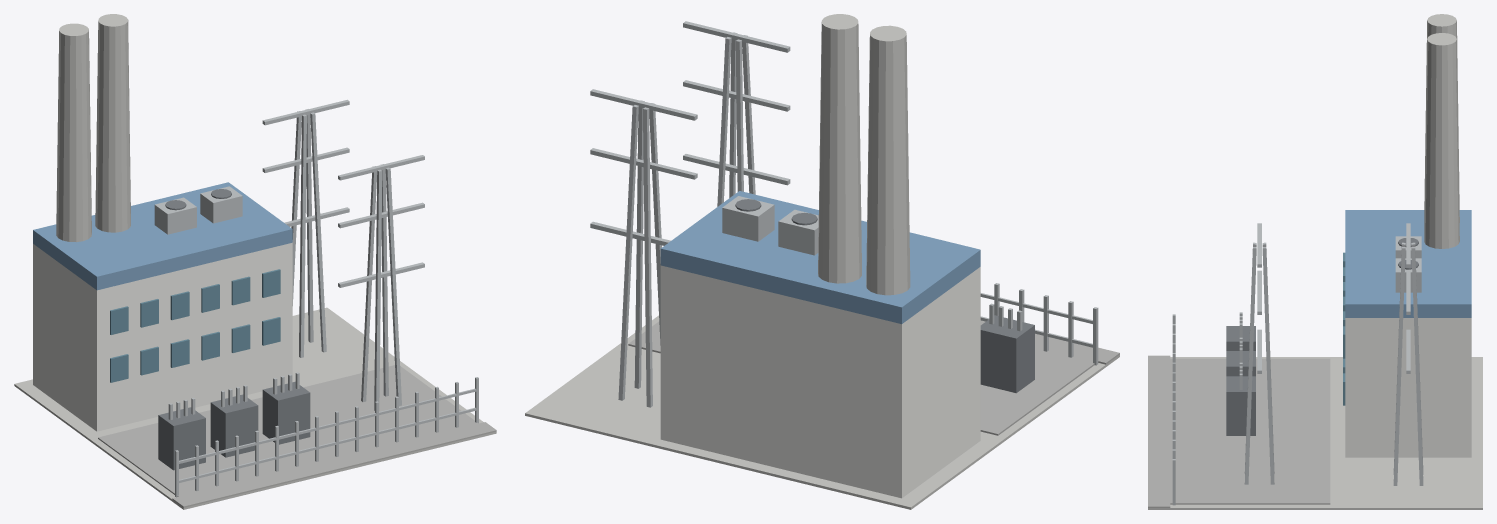
The model's file is power.fbx.
3 renders of one model, left to right at view 1: azimuth 30°, elevation 25°; view 2: azimuth 150°, elevation 25°; view 3: azimuth 270°, elevation 25°, orthographic. The views are drawn at different scales.
Visible parts, largest first — view 1: power; view 2: power; view 3: power.
Part boxes in pixels (<box>): power: <box>14,14,496,509</box>; power: <box>525,14,1119,509</box>; power: <box>1148,14,1482,509</box>.
Size of the model in its own units: 960 by 1060 by 900.
